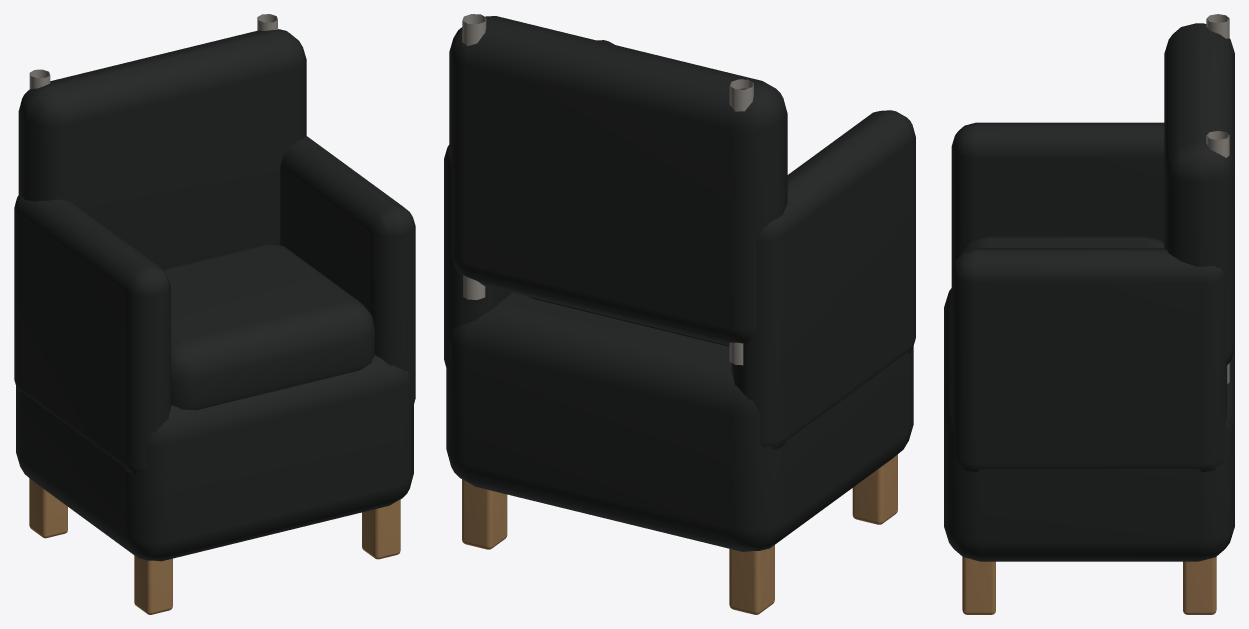
File: prod-1773061941304-t3x3t.glb
3 renders of one model, left to right at view 1: azimuth 30°, elevation 25°; view 2: azimuth 150°, elevation 25°; view 3: azimuth 270°, elevation 25°, orthographic. The views are drawn at different scales.
Parts seen in each view (by area): view 1: Sofa base.004, Sofa foot.016, Formal chair back trim.002; view 2: Sofa base.004, Sofa foot.016, Formal chair back trim.002; view 3: Sofa base.004, Sofa foot.016, Formal chair back trim.002.
Part boxes in pixels (x1,y1,x2,y2): Sofa base.004: [14, 29, 415, 561]; Sofa foot.016: [29, 478, 400, 614]; Formal chair back trim.002: [29, 14, 277, 88]; Sofa base.004: [444, 16, 915, 551]; Sofa foot.016: [462, 454, 897, 614]; Formal chair back trim.002: [462, 14, 753, 365]; Sofa base.004: [944, 23, 1234, 561]; Sofa foot.016: [962, 557, 1216, 614]; Formal chair back trim.002: [1206, 14, 1229, 383].
Bounding box in the file's own units: 0.6 × 0.9 × 0.5.
